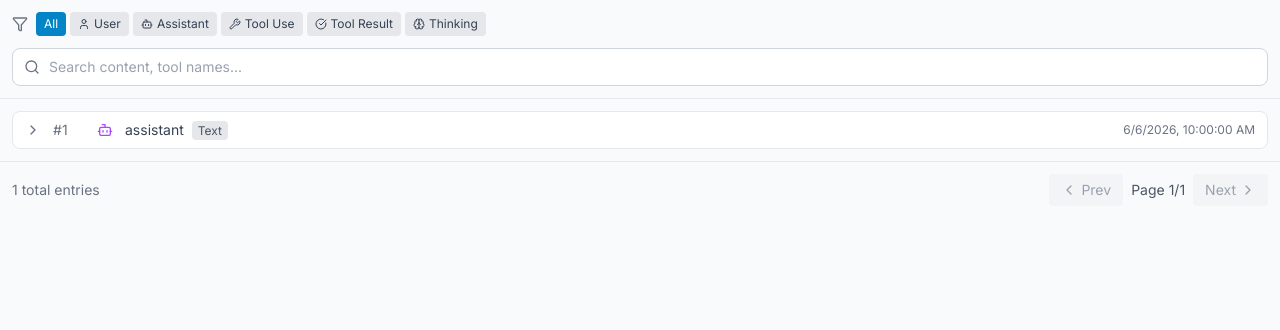
it: TranscriptViewer — JsonString expand toggle › reveals the full string when "더 보기" is clicked
Click the text "assistant". click: click(176, 130)
box: [125,121,228,140]
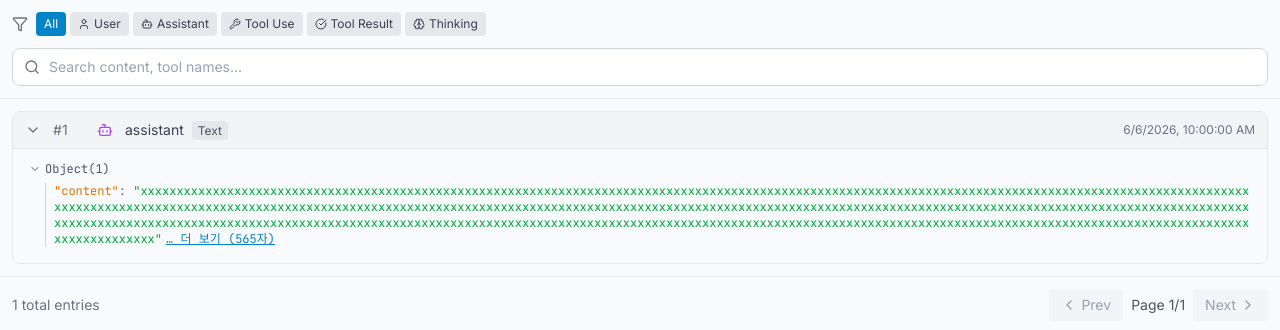
Click the button with aria-label "전체 문자열 보기". click: click(220, 239)
box: [166,231,275,247]
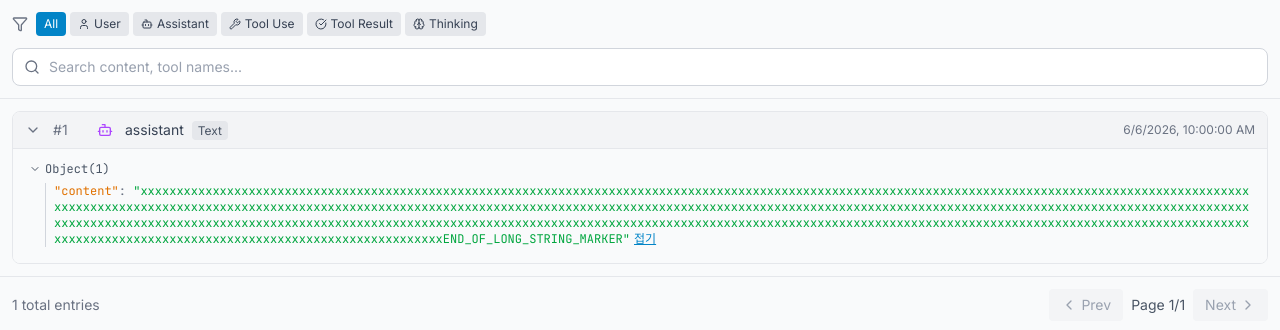
Now the text "END_OF_LONG_STRING_MARKER" is shown, box [54,183,1249,247]
Now the button with aria-label "문자열 접기" is shown, box [634,231,656,247]
